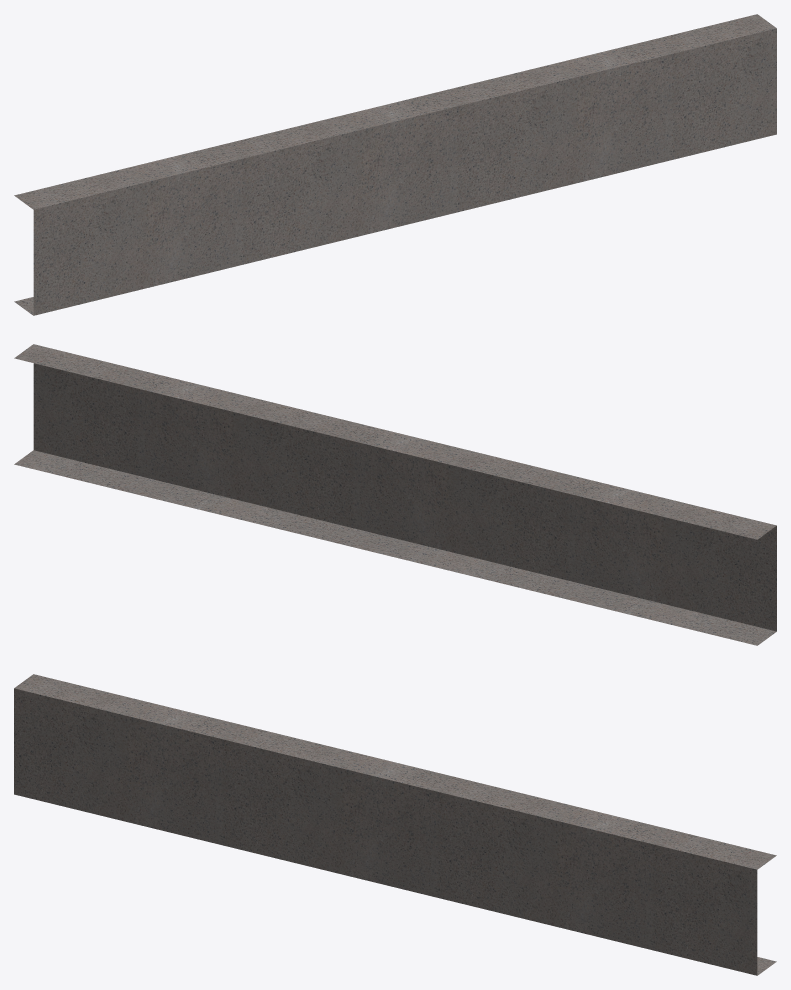
The model's file is window_002_016_15.gltf.
3 views of the same model, one above another, from view 1: azimuth 30°, elevation 25°; view 2: azimuth 150°, elevation 25°; view 3: azimuth 330°, elevation 25° (orthographic).
Parts seen in each view (by area): view 1: Window_002.016_15; view 2: Window_002.016_15; view 3: Window_002.016_15.
Part boxes in pixels (box(x1,y1,x2,y2)): Window_002.016_15: box(14, 14, 776, 315); Window_002.016_15: box(14, 344, 776, 645); Window_002.016_15: box(14, 674, 776, 975).
Bounding box in the file's own units: 2.2 × 0.3 × 0.1.
1 material, 1 textured.
